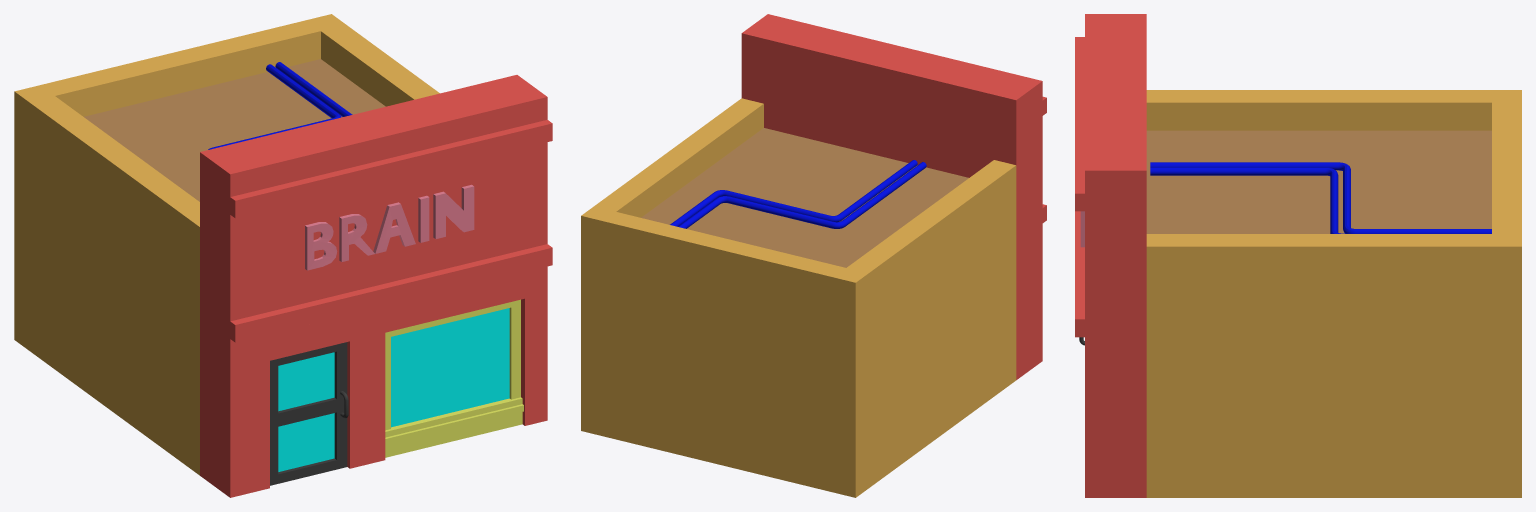
File: building_14.fbx
The picture shows the model from 3 angles, left to right: view 1: azimuth 30°, elevation 25°; view 2: azimuth 150°, elevation 25°; view 3: azimuth 270°, elevation 25°; orthographic projection. The views are drawn at different scales.
Visible parts, largest first — view 1: Building.14_low; view 2: Building.14_low; view 3: Building.14_low.
Part boxes in pixels (bbox=[...]): Building.14_low: bbox=[14, 14, 552, 497]; Building.14_low: bbox=[581, 14, 1046, 497]; Building.14_low: bbox=[1075, 14, 1521, 497].
Size of the model in its own units: 848 by 827 by 1022.
